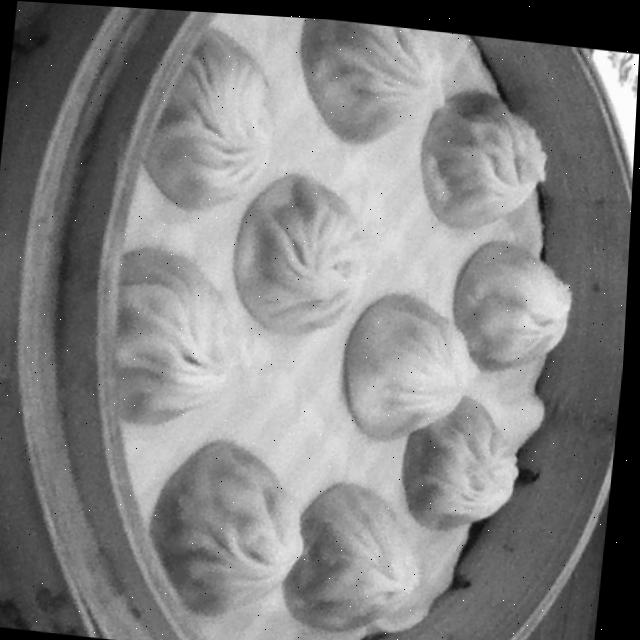带馅早点: (32, 3, 621, 640)
